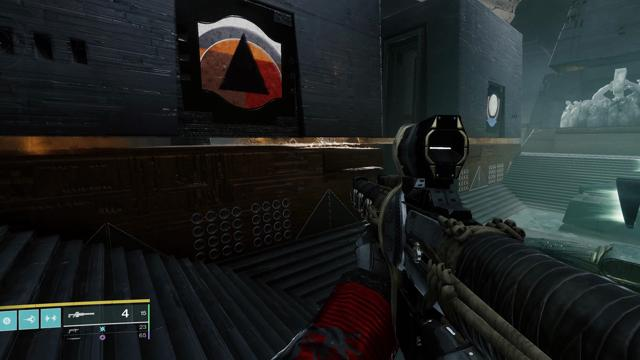pyramid: (197, 17, 283, 109)
traveler: (487, 93, 500, 127)
